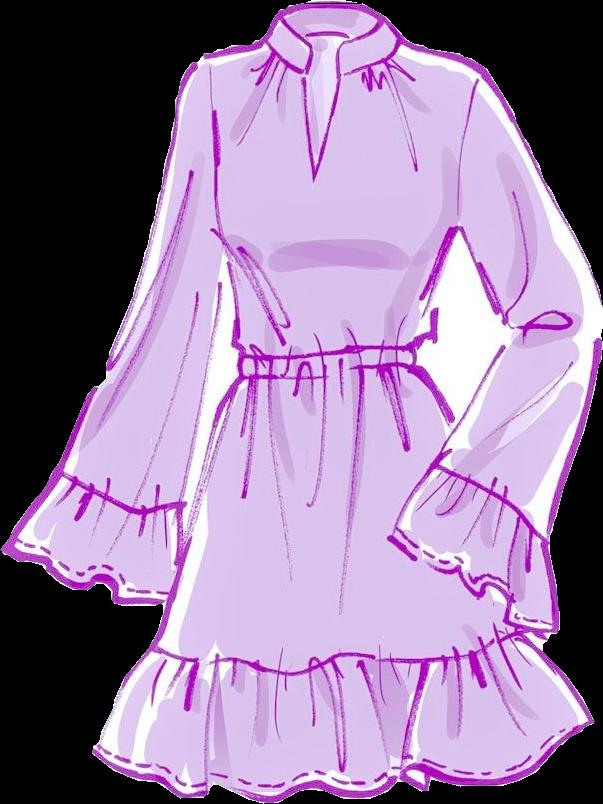Bodice: (207, 2, 488, 382)
Hemline: (87, 714, 600, 803)
Neckline: (277, 11, 387, 180), (232, 338, 422, 357), (336, 36, 406, 78), (259, 36, 308, 76)
Skirt: (93, 364, 593, 802)
Sleeve: (1, 54, 223, 609), (386, 73, 602, 635)
Sleeveline: (432, 462, 553, 545), (448, 67, 493, 231), (51, 464, 191, 513), (203, 51, 225, 234)
Waistline: (146, 621, 534, 678), (235, 361, 422, 384)
